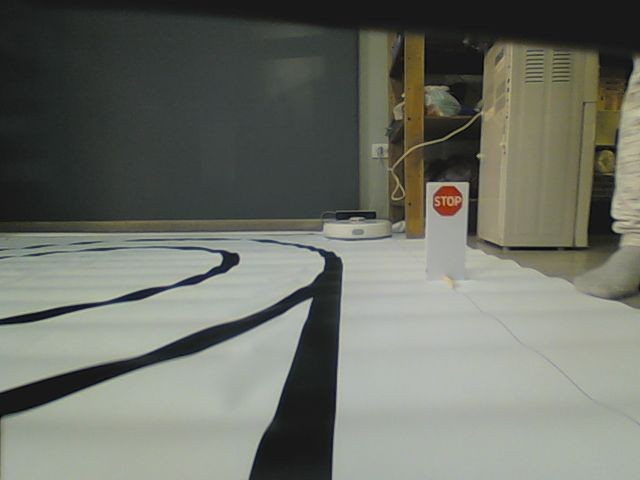Stop: (430, 184, 464, 217)
